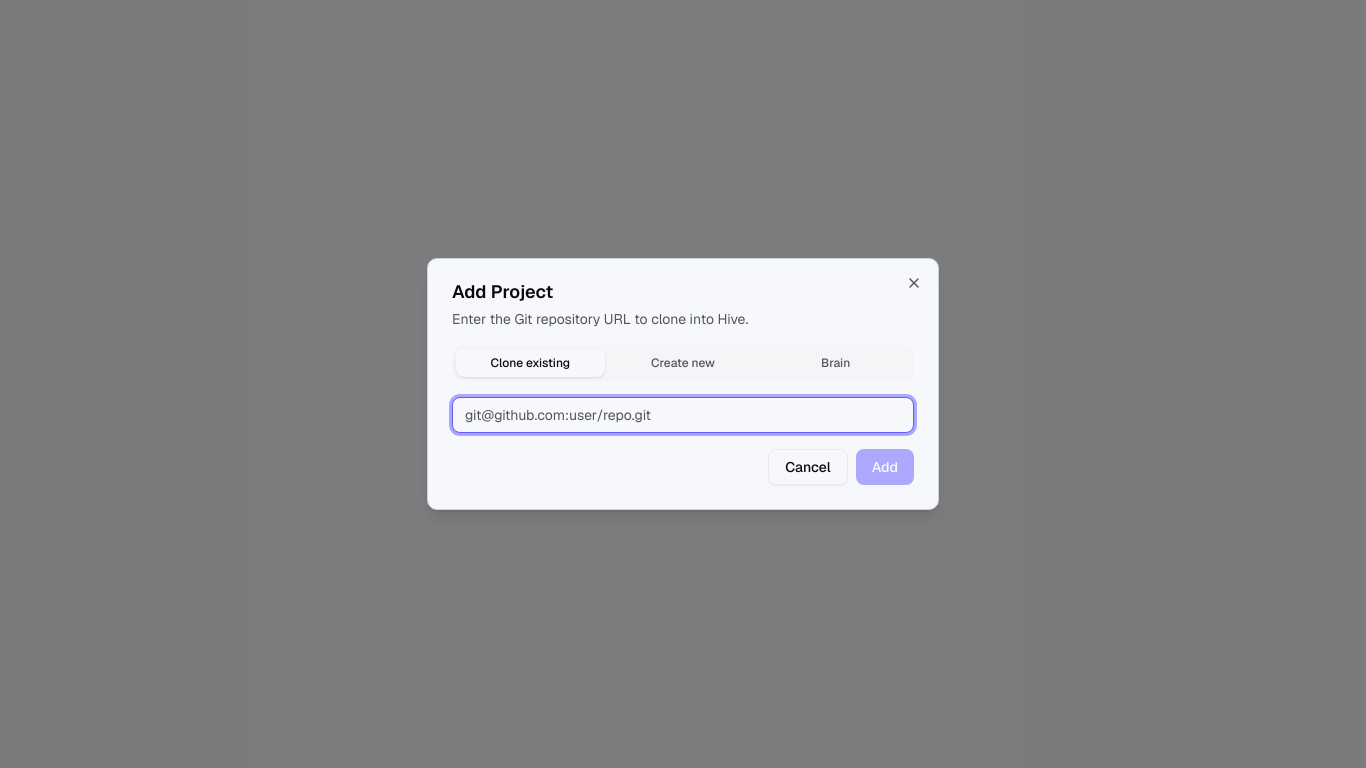
Test: AddProjectDialog › shows error when submit fails
Type "https://github.com/acme/repo.git" into the field with placeholder "git@github.com:user/repo.git" at [683, 415], box [452, 397, 914, 433]
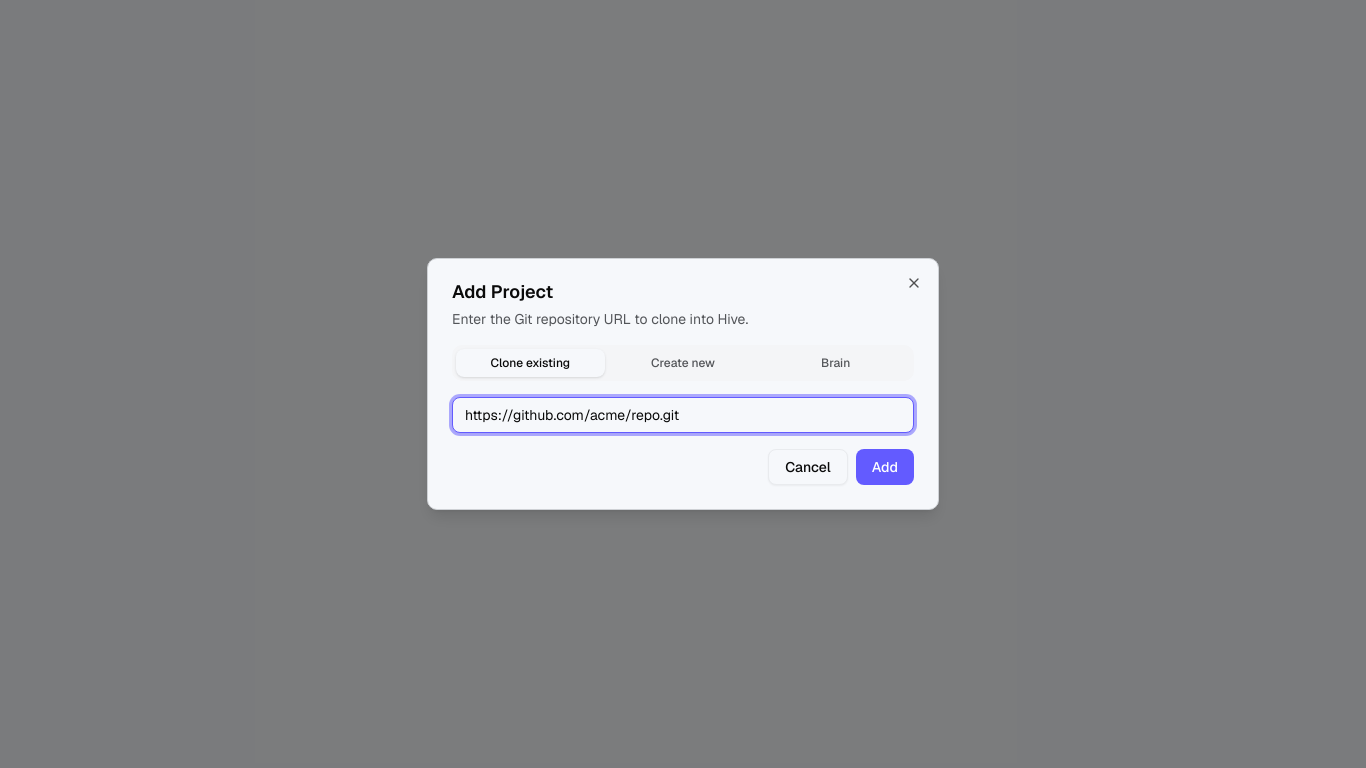
Click the button "Add" at [885, 467], box [856, 449, 914, 485]
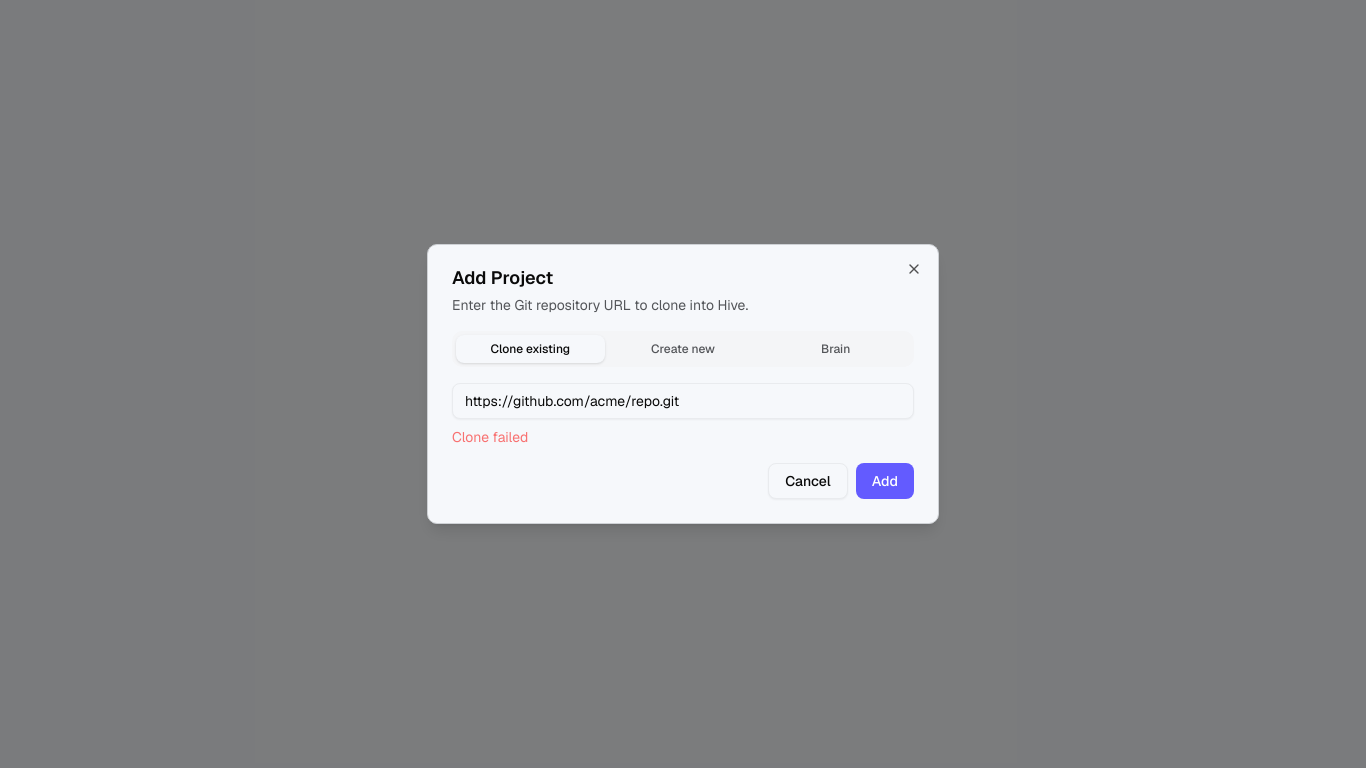
Expected: the text "Clone failed" is shown, [452, 428, 528, 446]
